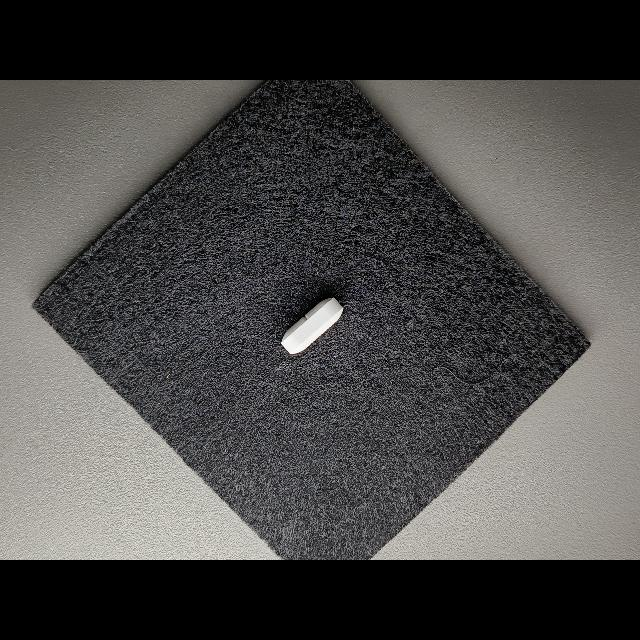Intact Pill: (281, 297, 343, 354)
